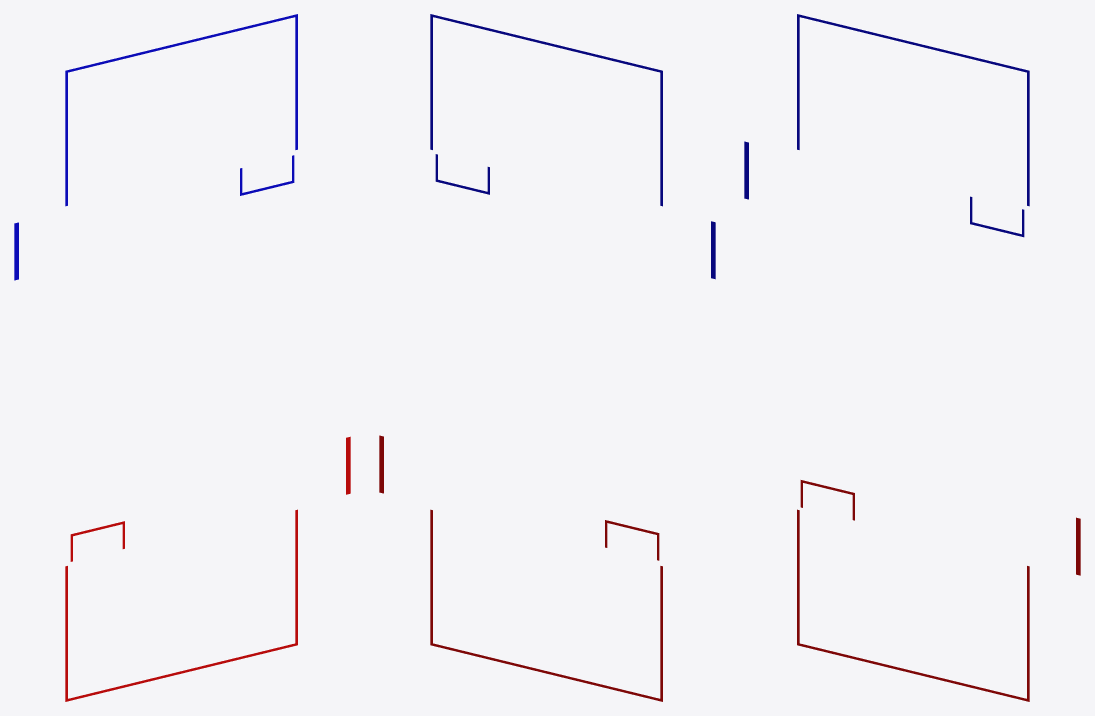
File: tape.obj
3 renders of one model, left to right at view 1: azimuth 30°, elevation 25°; view 2: azimuth 150°, elevation 25°; view 3: azimuth 330°, elevation 25°, orthographic.
Visible parts, largest first — view 1: tape-0000FF, tape-FF0000; view 2: tape-FF0000, tape-0000FF; view 3: tape-0000FF, tape-FF0000.
Boxes of the visible parts, box(x1,y1,x2,y2) form: tape-0000FF: box(14, 14, 297, 280); tape-FF0000: box(65, 436, 350, 701); tape-FF0000: box(379, 435, 662, 701); tape-0000FF: box(430, 14, 715, 279); tape-0000FF: box(744, 14, 1029, 237); tape-FF0000: box(797, 480, 1080, 701).
Bounding box in the file's own units: 140 × 251 × 0.599.
